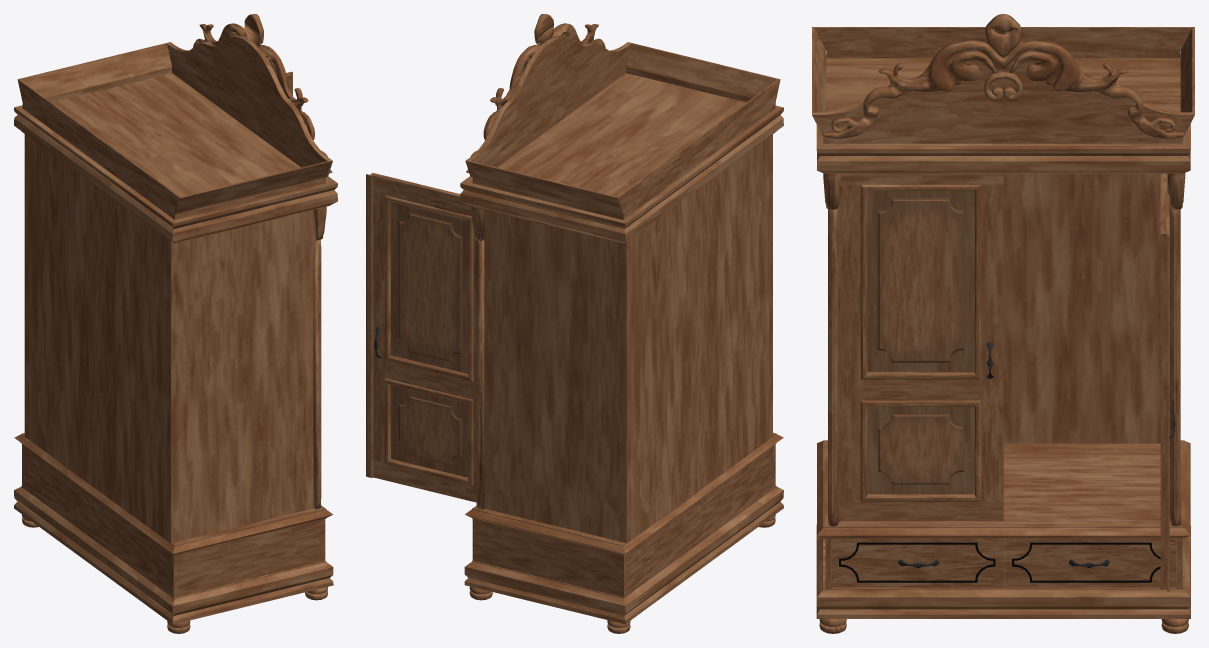
File: wardrobe.dae
3 views of the same model, side by side, from view 1: azimuth 30°, elevation 25°; view 2: azimuth 150°, elevation 25°; view 3: azimuth 270°, elevation 25° (orthographic). The views are drawn at different scales.
Parts seen in each view (by area): view 1: wardrobe_body, wardrobe_levels, wardrobe_eaves, wardrobe_ornaments, wardrobe_foot; view 2: wardrobe_body, wardrobe_levels, wardrobe_eaves, wardrobe_pressure_bars_right, wardrobe_door_right, wardrobe_ornaments, wardrobe_foot; view 3: wardrobe_levels, wardrobe_door_left, wardrobe_body, wardrobe_pressure_bars, wardrobe_eaves, wardrobe_ornaments, wardrobe_door_right, wardrobe_pressure_bars_right, wardrobe_foot.
Boxes of the visible parts, x1,y1,x2,y2 form: wardrobe_body: (22,134,325,597); wardrobe_levels: (14,73,337,624); wardrobe_eaves: (17,35,332,219); wardrobe_ornaments: (193,14,332,509); wardrobe_foot: (22,514,327,633); wardrobe_body: (472,134,775,597); wardrobe_levels: (460,73,783,624); wardrobe_eaves: (465,35,780,219); wardrobe_pressure_bars_right: (366,174,473,485); wardrobe_door_right: (370,173,476,502); wardrobe_ornaments: (466,14,605,509); wardrobe_foot: (469,514,775,633); wardrobe_levels: (816,54,1190,618); wardrobe_door_left: (832,173,1176,587); wardrobe_body: (825,173,1182,588); wardrobe_pressure_bars: (839,184,1160,582); wardrobe_eaves: (812,27,1194,143); wardrobe_ornaments: (822,14,1185,526); wardrobe_door_right: (1160,173,1167,589); wardrobe_pressure_bars_right: (1167,194,1169,591); wardrobe_foot: (819,619,1188,633).
Size of the model in its own units: 7.44 by 7.78 by 13.92.
Materials: 1 (1 with a texture image).
